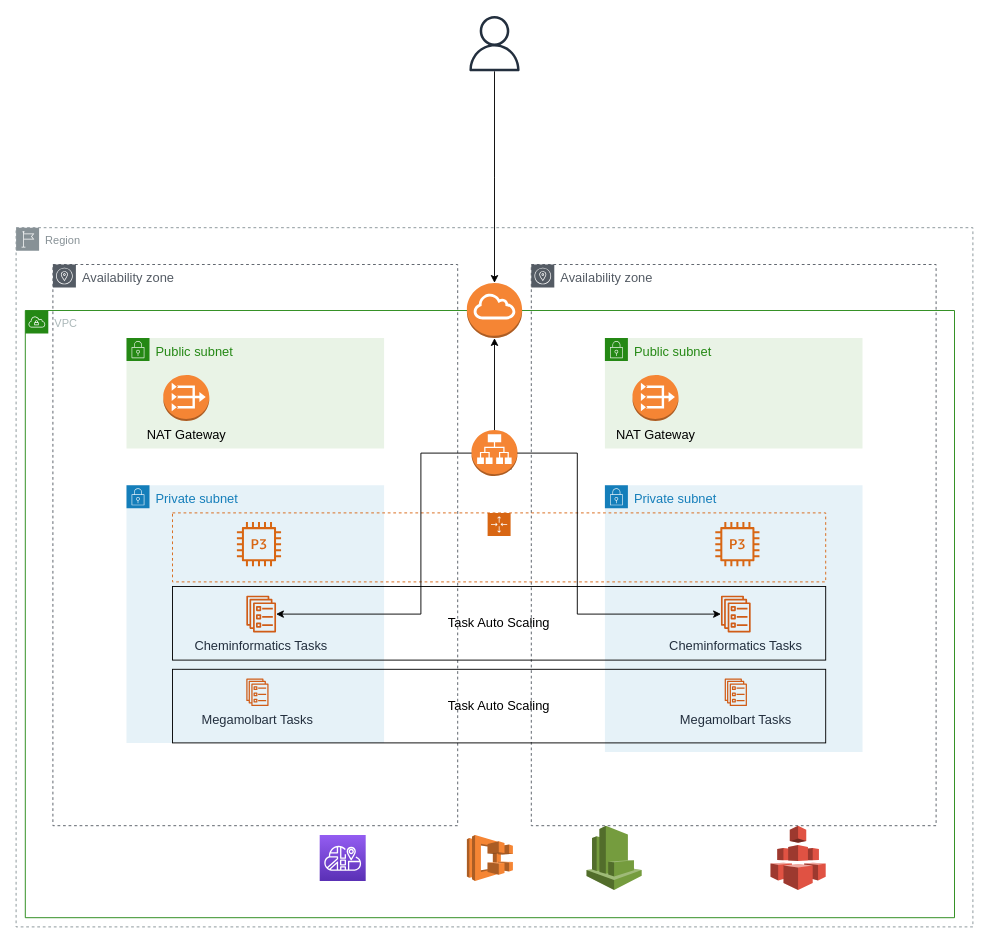
Image size: 989x943. Some labels were removed from this diagram. Here are the shapes that lost their labels. From the top down, the box of each, then its label:
(466, 282, 522, 338): IGW
(471, 429, 518, 476): ALB
(172, 512, 826, 582): Auto Scaling group
(319, 834, 366, 881): Cloud Map
(466, 834, 513, 881): Cluster
(586, 825, 642, 890): CloudWatch
(770, 825, 826, 890): EFS
